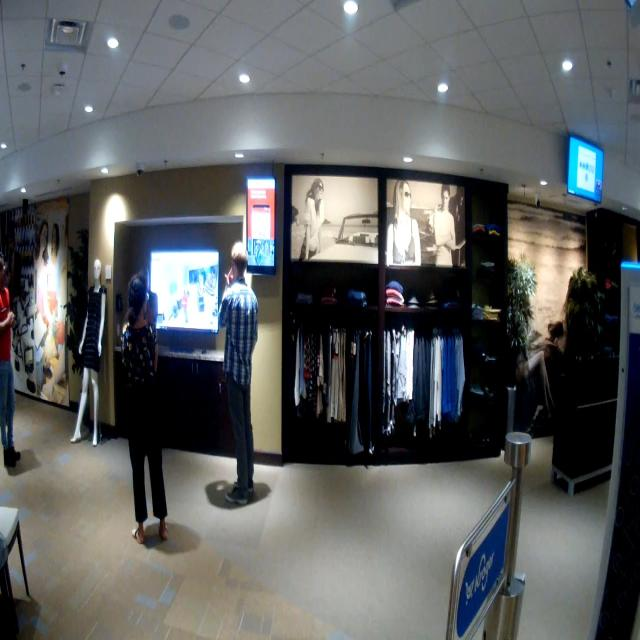normal: (120, 255, 177, 557), (212, 228, 266, 518), (0, 238, 33, 489)
